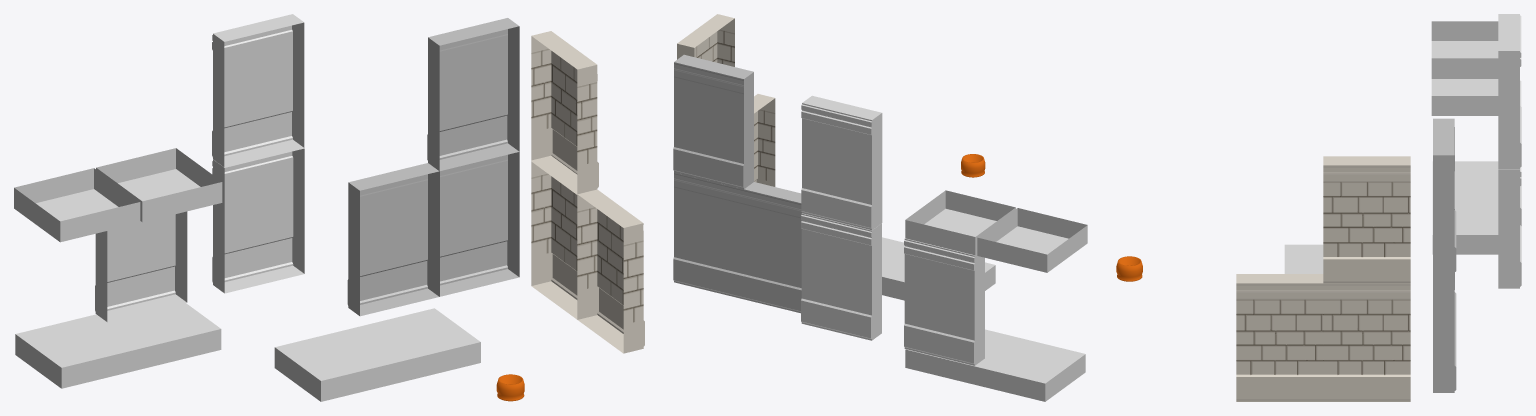
The model's file is Wall_Mod.fbx.
The picture shows the model from 3 angles, left to right: view 1: azimuth 30°, elevation 25°; view 2: azimuth 150°, elevation 25°; view 3: azimuth 270°, elevation 25°; orthographic projection. The views are drawn at different scales.
Visible parts, largest first — view 1: Cube.007, Cube.014, Cube.008, Cube.006, Cube.005, Cube.010, Cube.013, Cube.001, Cube.012, Cube.003, Cube.009, Cube.004 (+4 smaller); view 2: Cube.007, Cube.014, Cube.006, Cube.001, Cube.008, Cube.005, Cube.004, Cube.003, Cube.002, Cube.013, Cube.012, Cube.000 (+3 smaller); view 3: Cube.013, Cube.012, Cube.010, Cube.002, Cube.007, Cube.014, Cube.006, Cube.008, Cube.003, Cube.000, Cube.004, Cube.009 (+1 smaller).
Boxes of the visible parts, box(x1,y1,x2,y2) form: Cube.007: box(212, 14, 304, 167); Cube.014: box(427, 18, 519, 171); Cube.008: box(427, 152, 519, 296); Cube.006: box(212, 148, 304, 293); Cube.005: box(347, 163, 439, 316); Cube.010: box(531, 155, 598, 319); Cube.013: box(531, 31, 598, 194); Cube.001: box(95, 211, 187, 322); Cube.012: box(578, 189, 644, 353); Cube.003: box(14, 168, 140, 242); Cube.009: box(274, 328, 400, 401); Cube.004: box(15, 314, 141, 388); Cube.007: box(801, 95, 882, 230); Cube.014: box(673, 54, 753, 189); Cube.006: box(801, 213, 881, 340); Cube.001: box(904, 238, 984, 365); Cube.008: box(673, 172, 743, 299); Cube.005: box(743, 182, 801, 313); Cube.004: box(975, 337, 1085, 401); Cube.003: box(977, 208, 1087, 272); Cube.002: box(905, 190, 1015, 255); Cube.013: box(677, 14, 734, 66); Cube.012: box(754, 94, 775, 186); Cube.000: box(905, 329, 1014, 384); Cube.013: box(1323, 156, 1410, 283); Cube.012: box(1236, 274, 1323, 401); Cube.010: box(1323, 283, 1410, 401); Cube.002: box(1431, 59, 1498, 115); Cube.007: box(1498, 14, 1521, 169); Cube.014: box(1433, 118, 1456, 273); Cube.006: box(1498, 167, 1521, 288); Cube.008: box(1433, 272, 1456, 392); Cube.003: box(1431, 21, 1498, 59); Cube.000: box(1432, 198, 1498, 254); Cube.004: box(1432, 161, 1498, 198); Cube.009: box(1284, 244, 1323, 273).
Bounding box in the file's own units: 1203 × 654 × 928.
